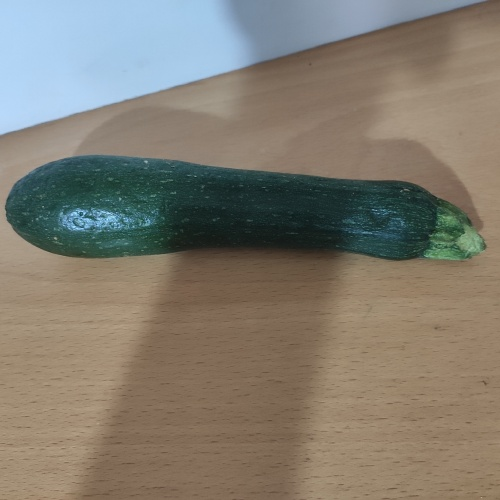zucchine: (10, 154, 489, 285)
